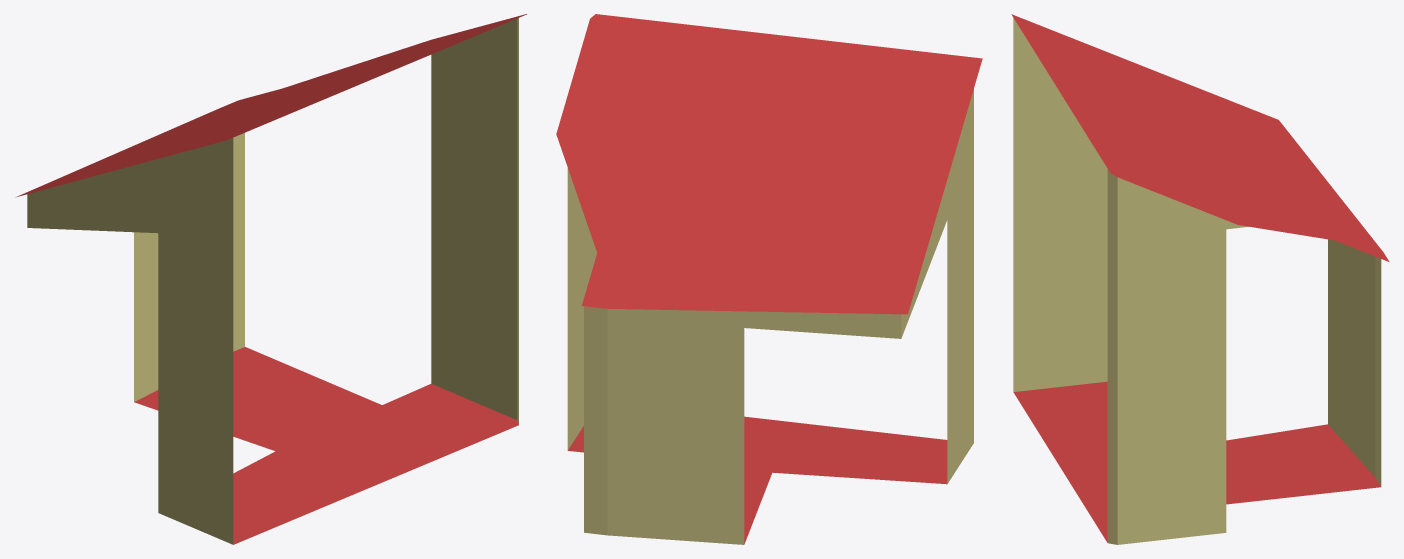
The picture shows the model from 3 angles, left to right: view 1: azimuth 30°, elevation 25°; view 2: azimuth 150°, elevation 25°; view 3: azimuth 270°, elevation 25°; orthographic projection. The views are drawn at different scales.
Bounding box in the file's own units: 12.78 × 10.76 × 11.74.
